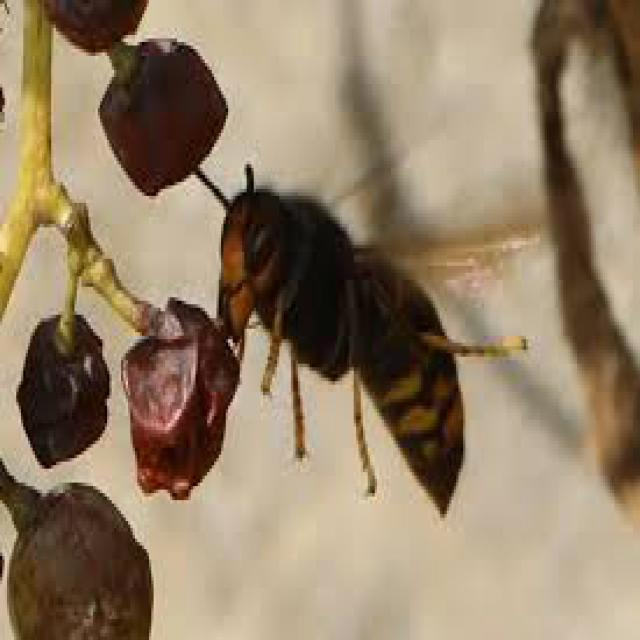Vespa Velutina: (182, 108, 552, 530)
